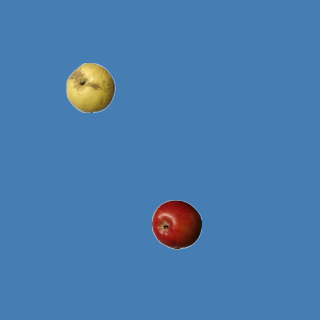Apple Braeburn: (151, 199, 201, 249)
Apple Golden 1: (65, 62, 115, 112)
